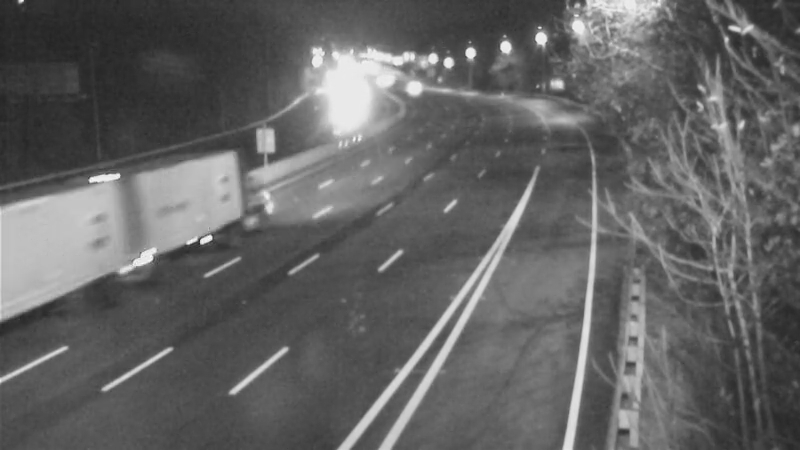vehicle: (115, 168, 195, 248), (388, 68, 438, 118), (322, 86, 372, 136)
